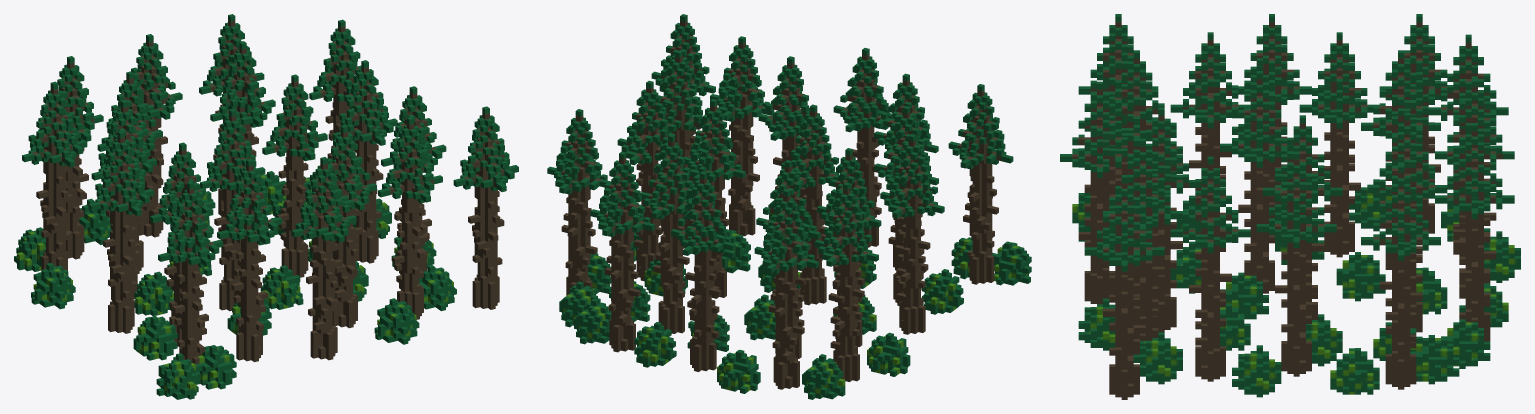
Rendered from trees_13_overtile.glb.
3 renders of one model, left to right at view 1: azimuth 30°, elevation 25°; view 2: azimuth 150°, elevation 25°; view 3: azimuth 270°, elevation 25°, orthographic. The views are drawn at different scales.
Visible parts, largest first — view 1: trees_13_overtile; view 2: trees_13_overtile; view 3: trees_13_overtile.
Part boxes in pixels (x1,y1,x2,y2): trees_13_overtile: [14, 14, 518, 399]; trees_13_overtile: [547, 14, 1031, 399]; trees_13_overtile: [1060, 14, 1520, 399].
Size of the model in its own units: 7.7 by 3.9 by 7.5.
1 material, 1 textured.
